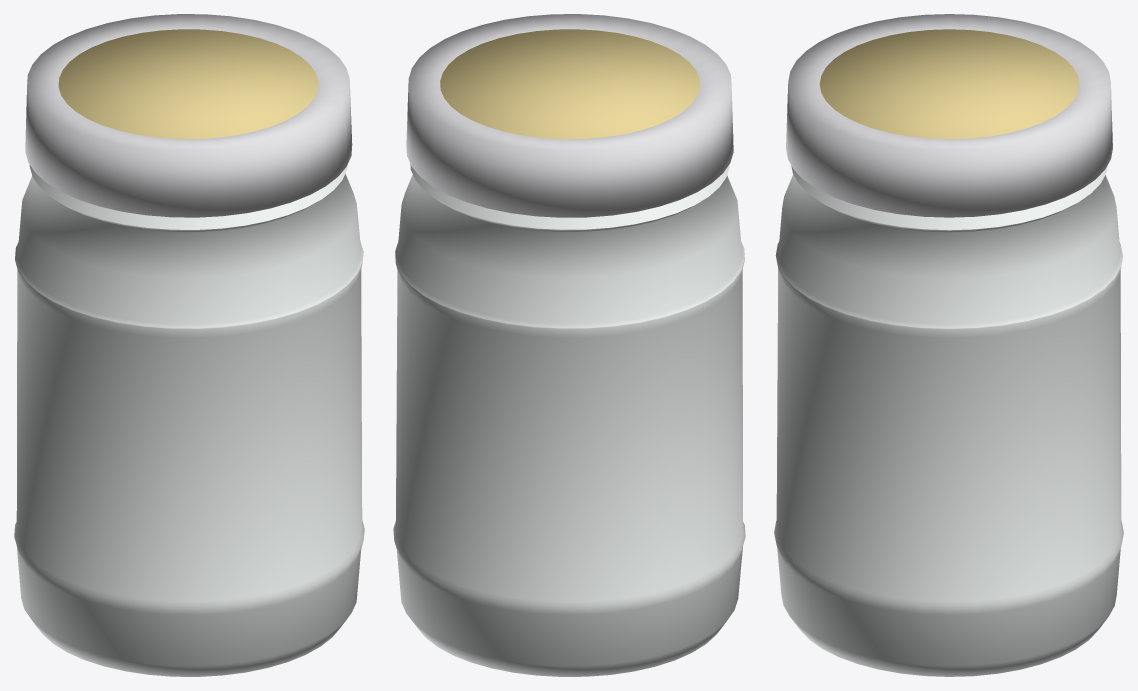
File: bottle_mason_lod1.glb
The picture shows the model from 3 angles, left to right: view 1: azimuth 30°, elevation 25°; view 2: azimuth 150°, elevation 25°; view 3: azimuth 270°, elevation 25°; orthographic projection.
Parts seen in each view (by area): view 1: Glass, Cap; view 2: Glass, Cap; view 3: Glass, Cap.
Part boxes in pixels (x1,y1,x2,y2): Glass: [14, 165, 364, 676]; Cap: [25, 14, 352, 217]; Glass: [393, 164, 745, 676]; Cap: [406, 14, 733, 217]; Glass: [774, 165, 1123, 676]; Cap: [786, 14, 1112, 217].
Bounding box in the file's own units: 0.0785 × 0.1313 × 0.078.
